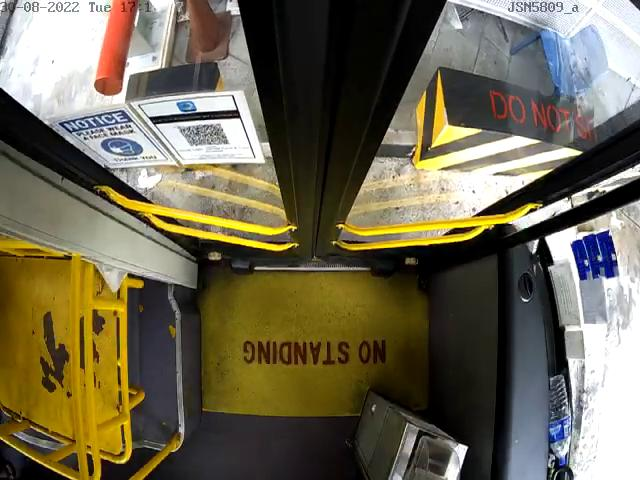close: (0, 0, 640, 128)
